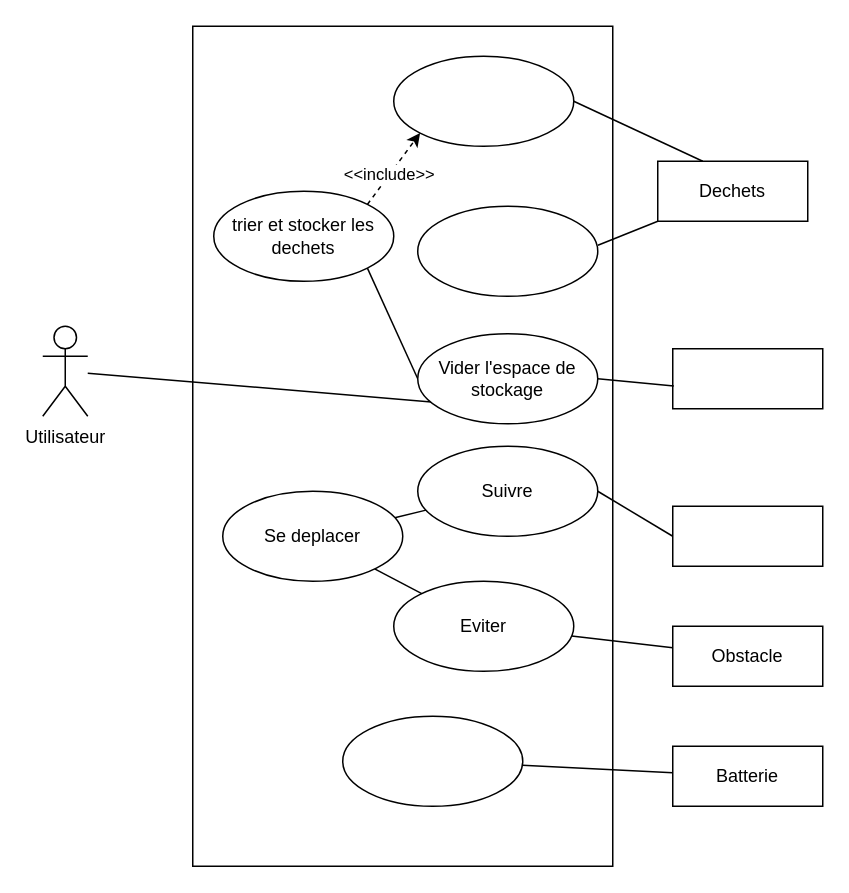
This 849x893 diagram has some shape labels left out. The centre of each missing label's shape, as x and y in pixels:
"Calculer le pourcentage" belongs at point 432,760.
"Detecter les dechets" belongs at point 507,250.
"Ligne" belongs at point 747,535.
"Poubelle" belongs at point 747,378.
"Separer les dechets" belongs at point 483,100.
